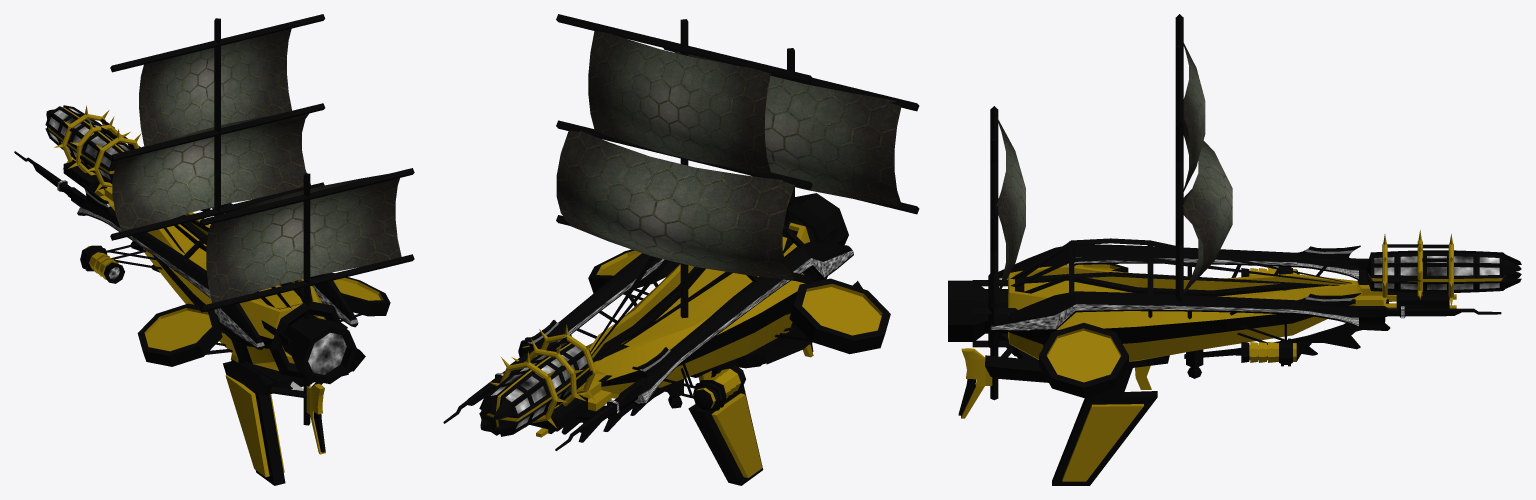
File: P4ShipV2.fbx
The picture shows the model from 3 angles, left to right: view 1: azimuth 30°, elevation 25°; view 2: azimuth 150°, elevation 25°; view 3: azimuth 270°, elevation 25°; orthographic projection. The views are drawn at different scales.
Visible parts, largest first — view 1: P1VoileC, P1VoileB, P1VoileA, pCylinder1, pPlane4, pCylinder28, pCylinder25, pPlane19, pCylinder44, pPlane3, pCylinder57, pCylinder15 (+16 smaller); view 2: P1VoileB, P1VoileA, P1VoileC, pCylinder1, pPlane4, pCylinder28, pCylinder44, pPlane19, pPlane2, pCylinder19, pCylinder56, pCylinder25 (+15 smaller); view 3: pCylinder1, pPlane2, pPlane19, pCylinder44, pCylinder3, pPlane4, P1VoileB, pCylinder56, P1VoileC, pCylinder25, P1VoileA, pCylinder51 (+9 smaller).
Boxes of the visible parts, left/top/right/bottom form: P1VoileC: left=206, top=174, right=401, bottom=302; P1VoileB: left=112, top=113, right=310, bottom=231; P1VoileA: left=139, top=28, right=291, bottom=146; pCylinder1: left=143, top=212, right=325, bottom=370; pPlane4: left=14, top=151, right=264, bottom=350; pCylinder28: left=137, top=303, right=222, bottom=366; pCylinder25: left=282, top=314, right=357, bottom=383; pPlane19: left=223, top=359, right=285, bottom=485; pCylinder44: left=45, top=105, right=132, bottom=183; pPlane3: left=226, top=348, right=365, bottom=395; pCylinder57: left=199, top=254, right=414, bottom=312; pCylinder15: left=110, top=103, right=325, bottom=161; P1VoileB: left=556, top=130, right=795, bottom=280; P1VoileA: left=588, top=30, right=770, bottom=173; P1VoileC: left=675, top=51, right=901, bottom=205; pCylinder1: left=579, top=222, right=812, bottom=398; pPlane4: left=555, top=242, right=853, bottom=450; pCylinder28: left=789, top=278, right=890, bottom=354; pCylinder44: left=479, top=340, right=593, bottom=436; pPlane19: left=688, top=358, right=763, bottom=485; pPlane2: left=443, top=253, right=664, bottom=423; pCylinder19: left=556, top=14, right=812, bottom=83; pCylinder56: left=590, top=221, right=796, bottom=360; pCylinder25: left=784, top=193, right=848, bottom=244; pCylinder1: left=1008, top=265, right=1363, bottom=361; pPlane2: left=989, top=291, right=1501, bottom=331; pPlane19: left=1052, top=355, right=1169, bottom=485; pCylinder44: left=1366, top=250, right=1521, bottom=292; pCylinder3: left=1039, top=322, right=1128, bottom=397; pPlane4: left=998, top=244, right=1368, bottom=279; P1VoileB: left=1183, top=140, right=1232, bottom=293; pCylinder56: left=1010, top=238, right=1351, bottom=293; P1VoileC: left=996, top=116, right=1025, bottom=296; pCylinder25: left=948, top=280, right=1008, bottom=341; P1VoileA: left=1181, top=43, right=1205, bottom=196; pCylinder51: left=1015, top=274, right=1327, bottom=296.
Bounding box in the file's own units: 10.75 × 17.75 × 21.16.
